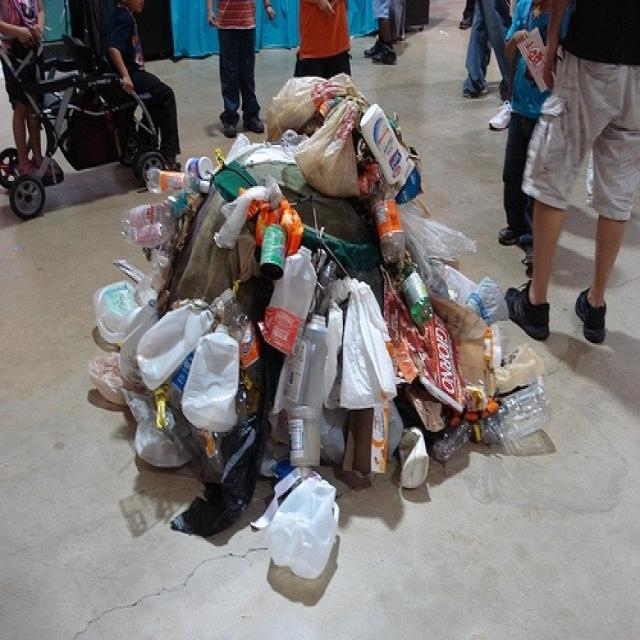Plastics: (95, 63, 549, 596)
